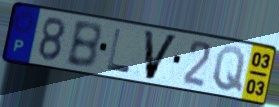2: (180, 40, 213, 89)
8: (38, 15, 67, 63)
B: (64, 20, 103, 71)
L: (105, 27, 133, 76)
Q: (211, 45, 247, 95)
V: (142, 28, 181, 82)
